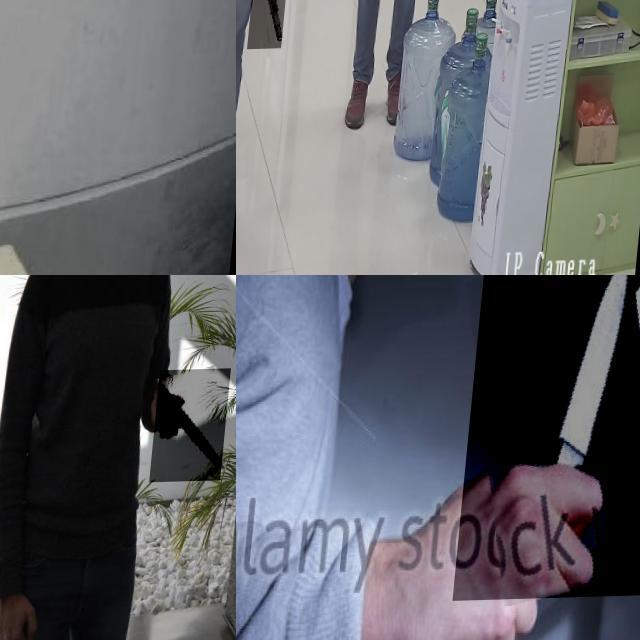-: (459, 275, 640, 603), (0, 0, 91, 275), (157, 370, 236, 484)
gun-knife-thesis - v11 Yolov5 augmented: (254, 0, 297, 56)
